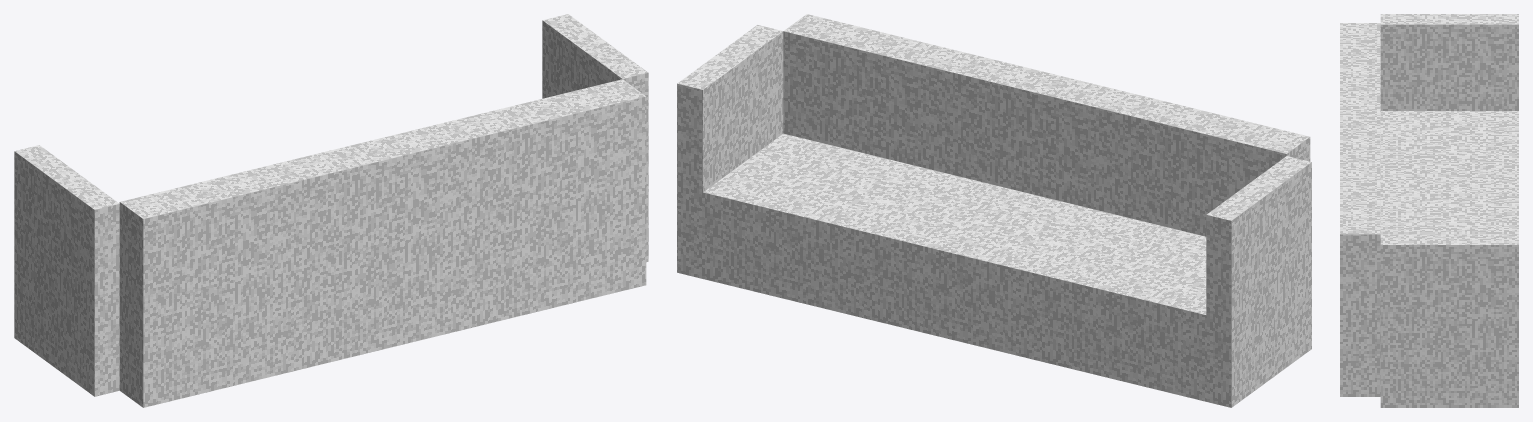
The model's file is BLOCKYGON_COUCHBIG.fbx.
3 views of the same model, side by side, from view 1: azimuth 30°, elevation 25°; view 2: azimuth 150°, elevation 25°; view 3: azimuth 270°, elevation 25° (orthographic). The views are drawn at different scales.
Parts seen in each view (by area): view 1: BLOCKYGON_COUCHBIG; view 2: BLOCKYGON_COUCHBIG; view 3: BLOCKYGON_COUCHBIG.
Part boxes in pixels (x1,y1,x2,y2): BLOCKYGON_COUCHBIG: (14,14,648,407); BLOCKYGON_COUCHBIG: (677,14,1311,407); BLOCKYGON_COUCHBIG: (1340,14,1518,407).
Bounding box in the file's own units: 326 × 106 × 106.
1 material, 1 textured.
